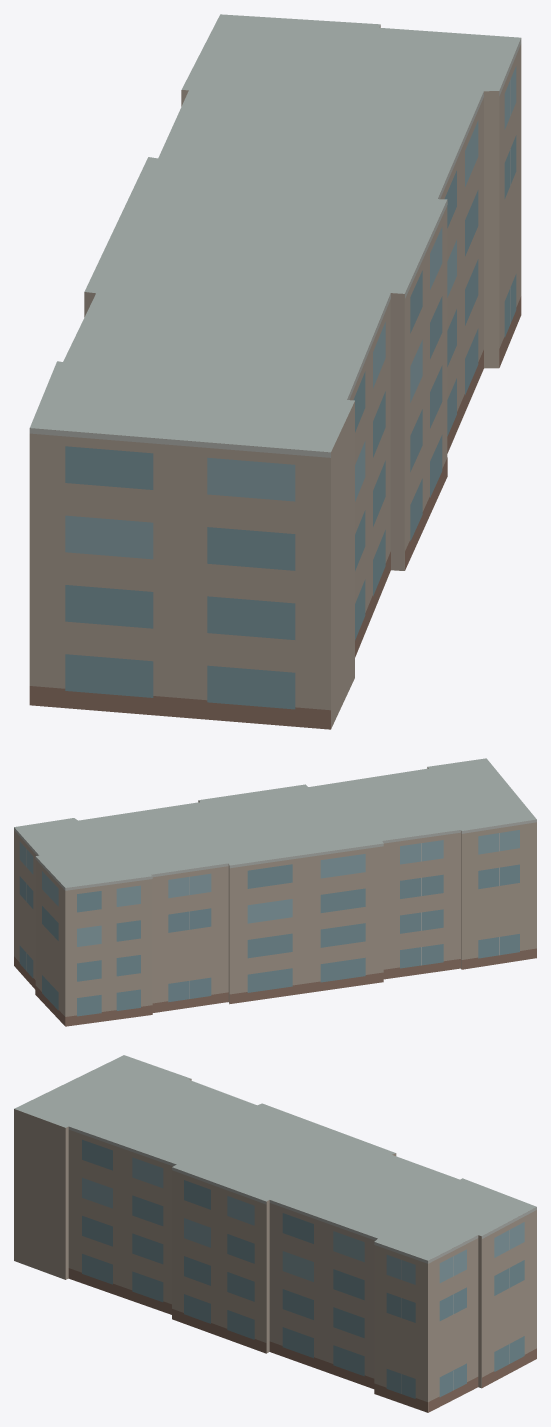
File: survey-upis-32882423.glb
3 renders of one model, top to bottom at view 1: azimuth 30°, elevation 25°; view 2: azimuth 150°, elevation 25°; view 3: azimuth 270°, elevation 25°, orthographic. The views are drawn at different scales.
Visible parts, largest first — view 1: survey-upis-32882423.tmp; view 2: survey-upis-32882423.tmp; view 3: survey-upis-32882423.tmp.
Boxes of the visible parts, x1,y1,x2,y2 form: survey-upis-32882423.tmp: [29, 14, 521, 729]; survey-upis-32882423.tmp: [14, 758, 536, 1026]; survey-upis-32882423.tmp: [14, 1055, 536, 1412].
Bounding box in the file's own units: 35.41 × 12.2 × 38.02.
